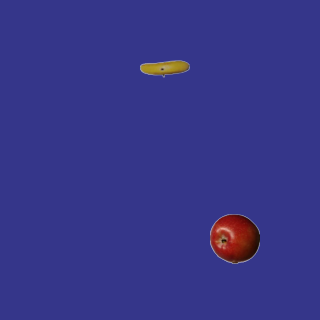Apple Braeburn: (209, 213, 259, 263)
Banana: (139, 43, 189, 93)
